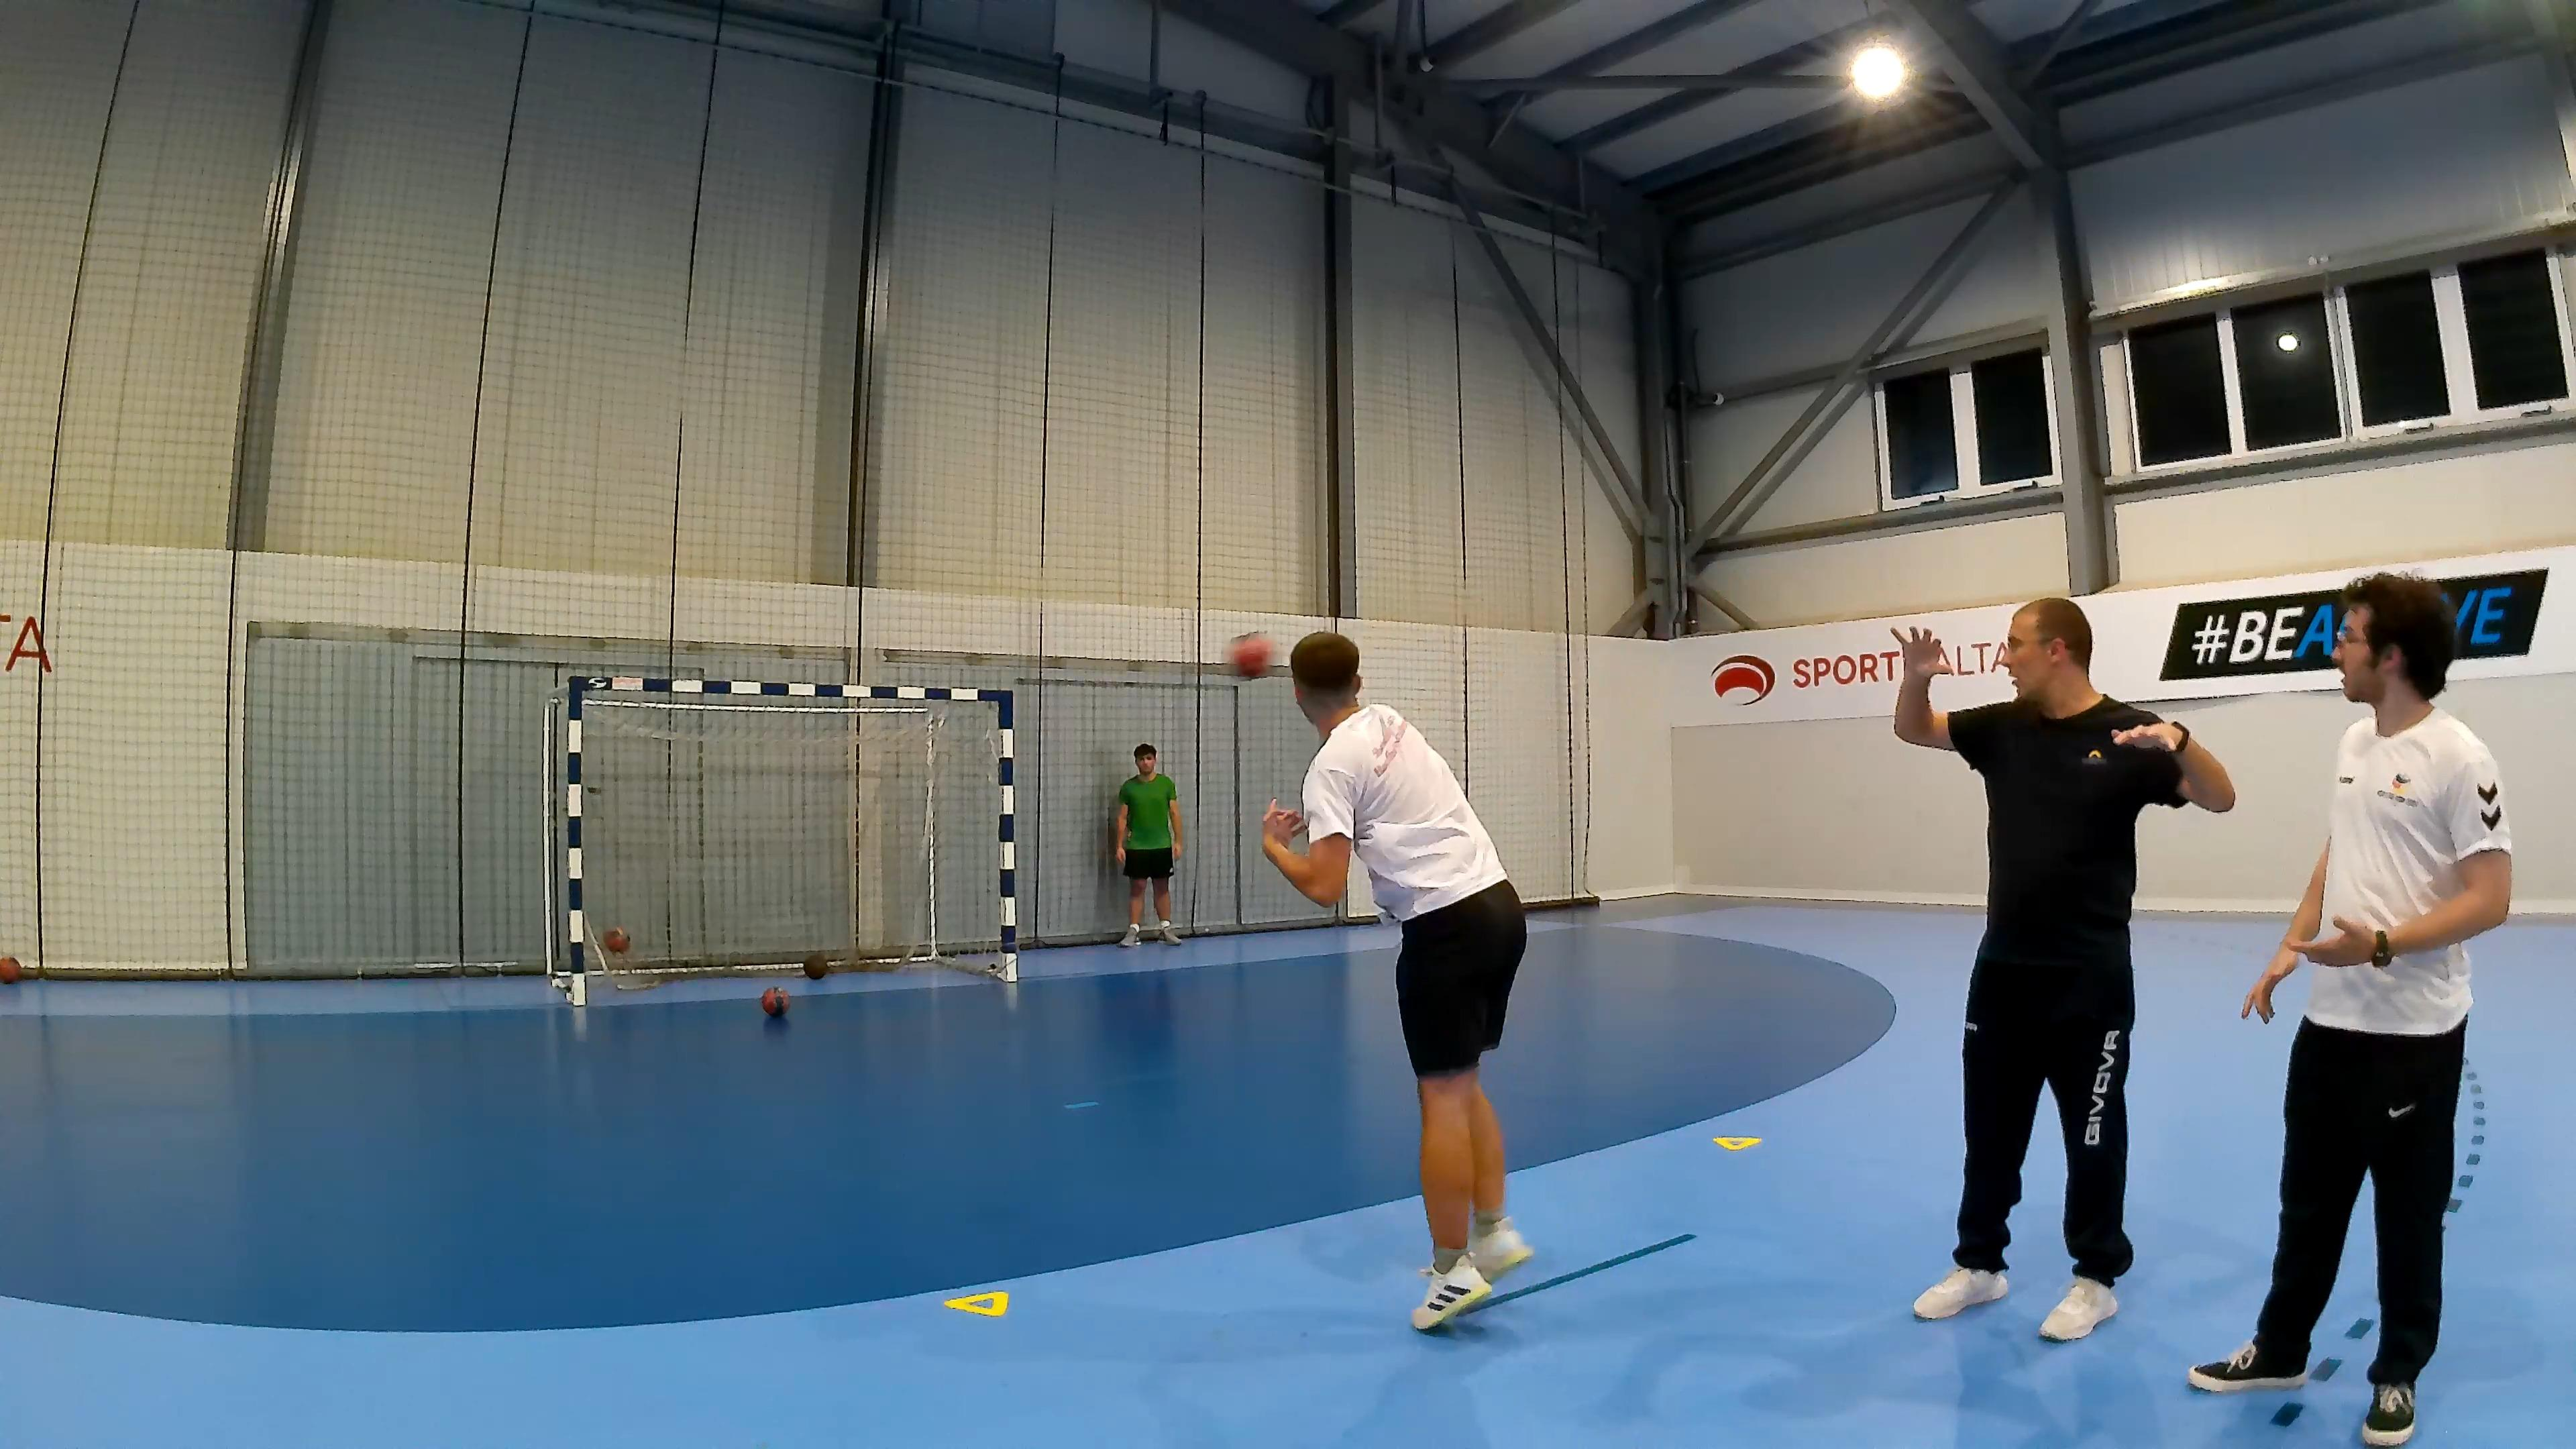handball: (1290, 630, 1359, 686), (1228, 632, 1272, 678), (791, 950, 835, 984), (761, 985, 789, 1016), (603, 925, 633, 954)
